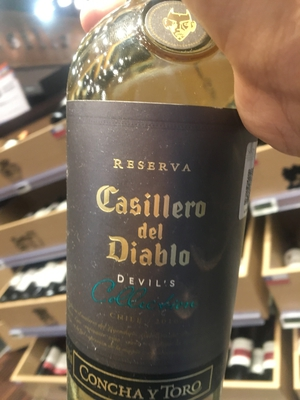casillero del diablo devils collection verde: (61, 8, 256, 400)
